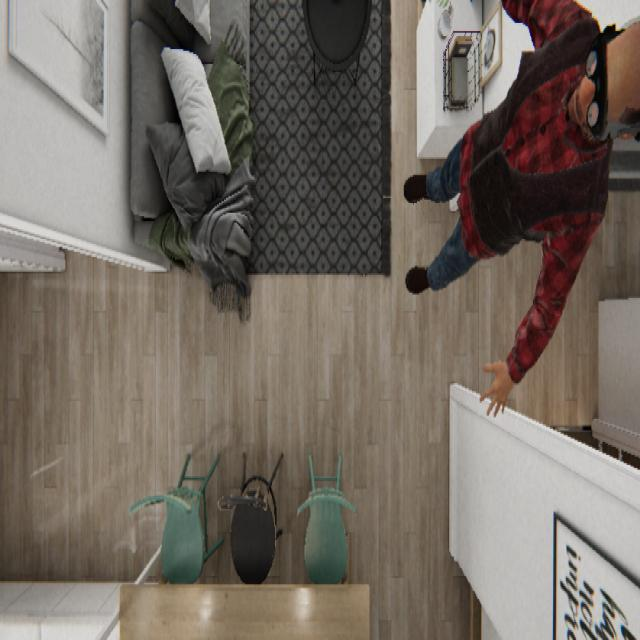Human: (402, 0, 638, 417)
